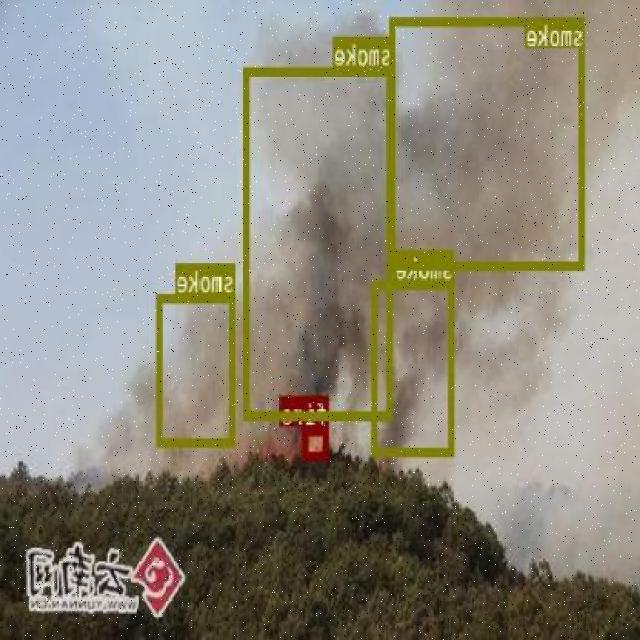smoke: (245, 65, 393, 418), (390, 16, 586, 270), (372, 280, 456, 456), (158, 292, 236, 446)
